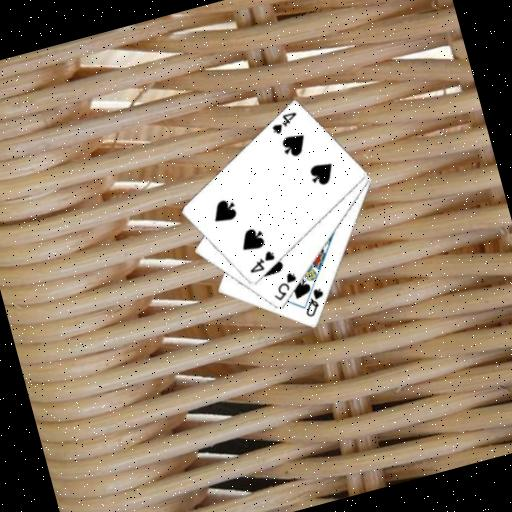4S: (242, 246, 279, 275), (266, 108, 302, 137)
5S: (266, 268, 303, 304)
QS: (296, 283, 330, 319)
